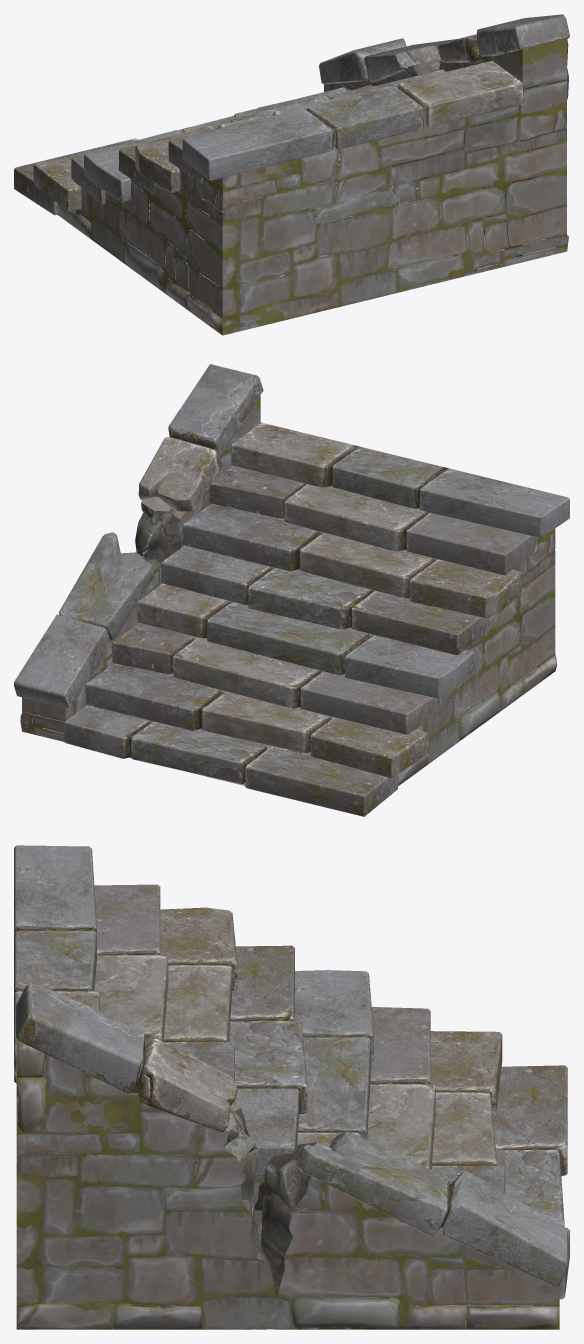
The picture shows the model from 3 angles, top to bottom: view 1: azimuth 30°, elevation 25°; view 2: azimuth 150°, elevation 25°; view 3: azimuth 270°, elevation 25°; orthographic projection. The views are drawn at different scales.
Visible parts, largest first — view 1: SM_Castle_Steps_4x2_01_v2_LOD0; view 2: SM_Castle_Steps_4x2_01_v2_LOD0; view 3: SM_Castle_Steps_4x2_01_v2_LOD0.
Part boxes in pixels (x1,y1,x2,y2): SM_Castle_Steps_4x2_01_v2_LOD0: (14,14,569,335); SM_Castle_Steps_4x2_01_v2_LOD0: (14,364,569,816); SM_Castle_Steps_4x2_01_v2_LOD0: (14,845,569,1329).
Bounding box in the file's own units: 4.28 × 2.58 × 4.1.
Materials: 3 (3 with a texture image).
